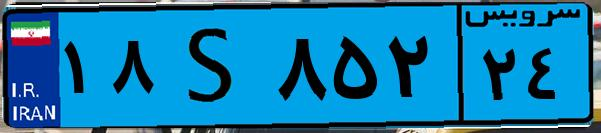1: (57, 26, 110, 100)
2: (385, 28, 445, 110), (475, 38, 525, 113)
4: (525, 38, 570, 115)
5: (330, 28, 385, 110)
8: (270, 28, 330, 110), (110, 28, 158, 98)
S: (158, 12, 270, 120)
